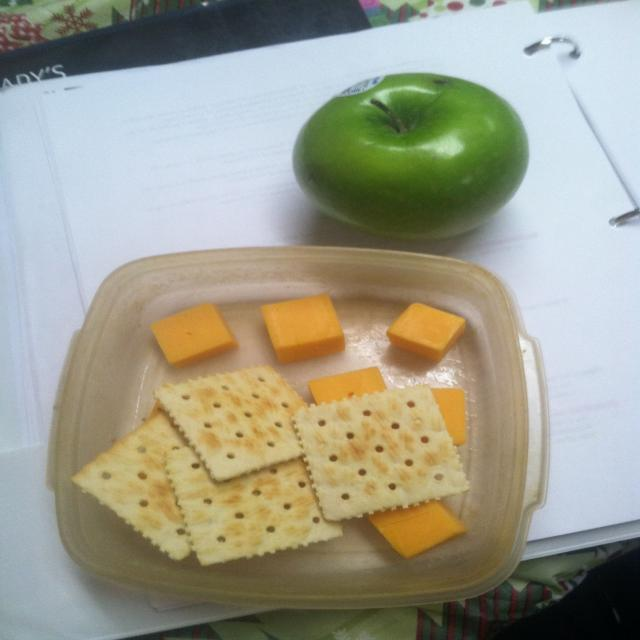Cracker: (290, 384, 472, 517), (170, 439, 351, 563), (154, 368, 334, 482)
